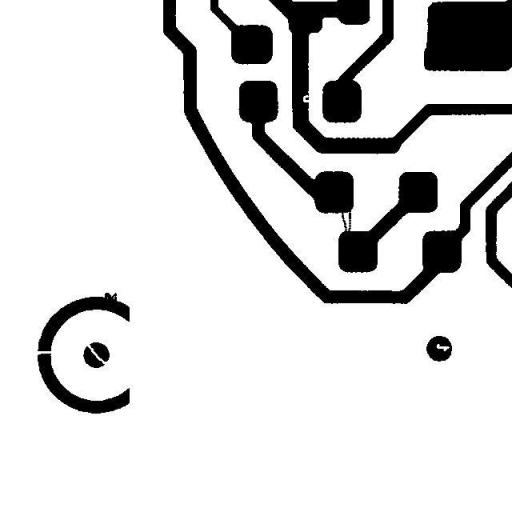mousebite: (295, 87, 317, 110)
open: (78, 336, 115, 371), (23, 342, 61, 362)
pin-hole: (429, 336, 457, 358)
short: (334, 196, 358, 247)
spur: (97, 285, 124, 309)
